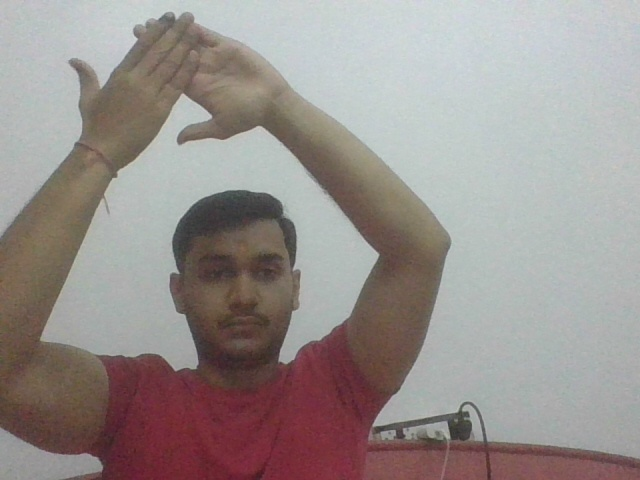H: (70, 11, 289, 145)
